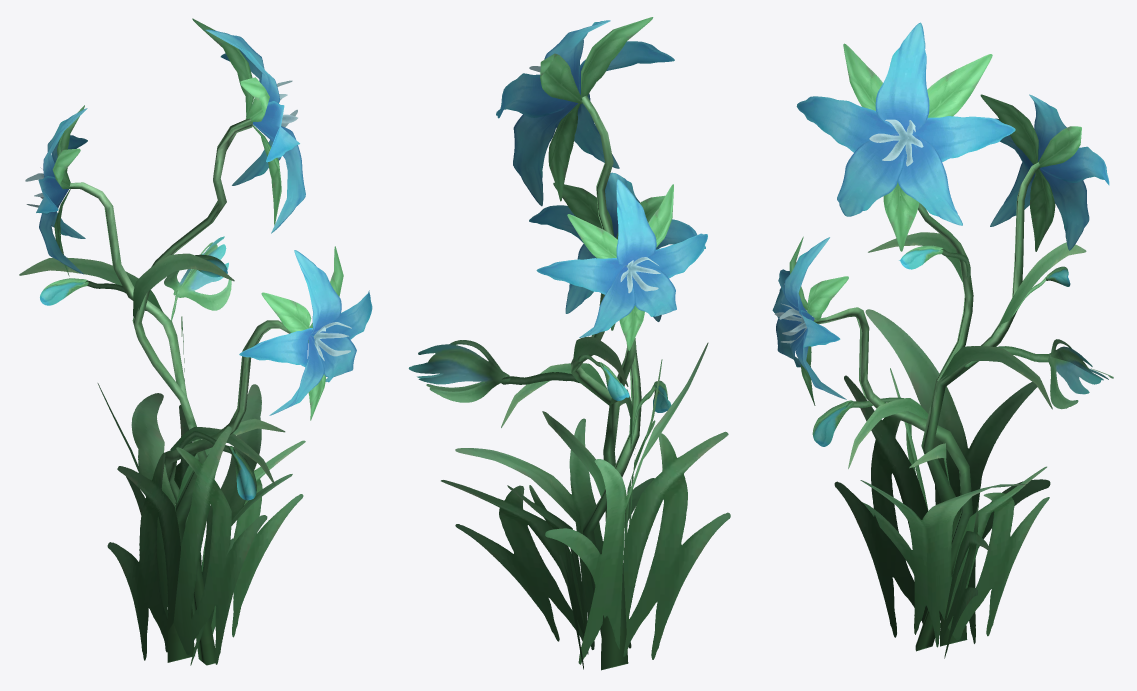
3 renders of one model, left to right at view 1: azimuth 30°, elevation 25°; view 2: azimuth 150°, elevation 25°; view 3: azimuth 270°, elevation 25°, orthographic.
Bounding box in the file's own units: 1.45 × 3.24 × 1.64.
Materials: 1 (1 with a texture image).
